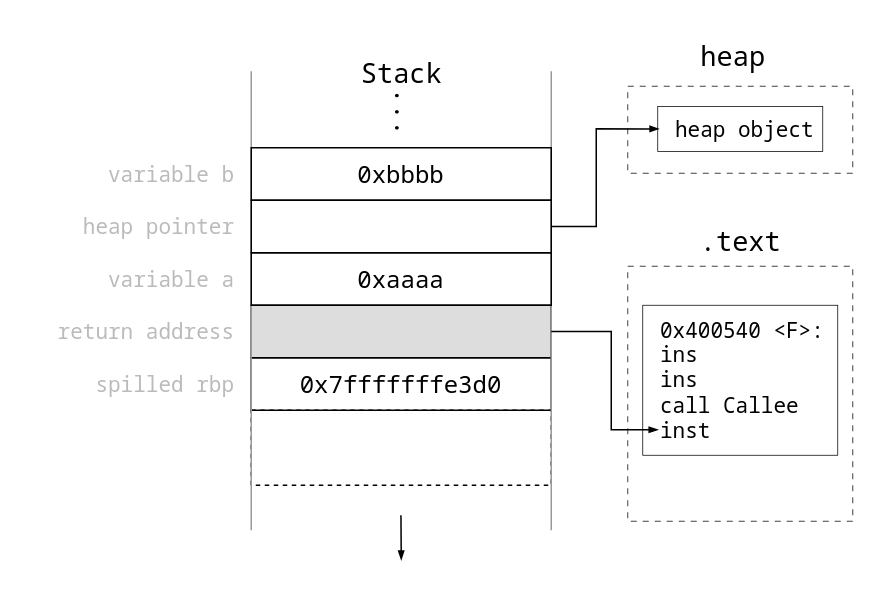
Some shapes in this 879 by 596 pixel diagram are drawn without their labels. The shapes that lost their labels are listed below. From the top down, each one's box as (x1, y1, x2, y2) in pixels, then its label:
(250, 199, 551, 253): 0x555555557260
(250, 304, 551, 358): 0x40055d
(250, 409, 551, 485): Local variables in Callee
